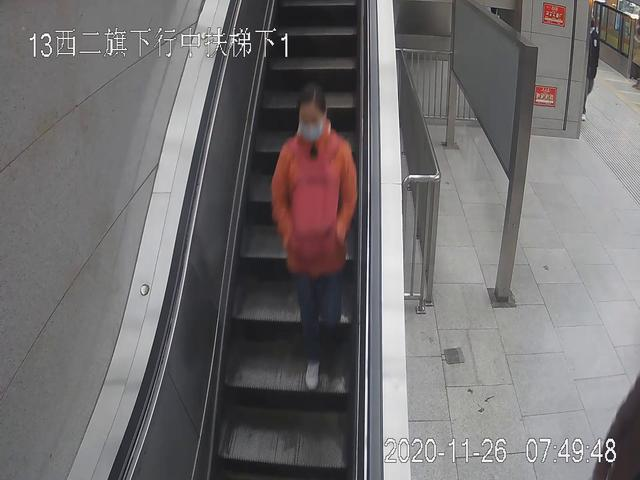person: (271, 83, 356, 392)
